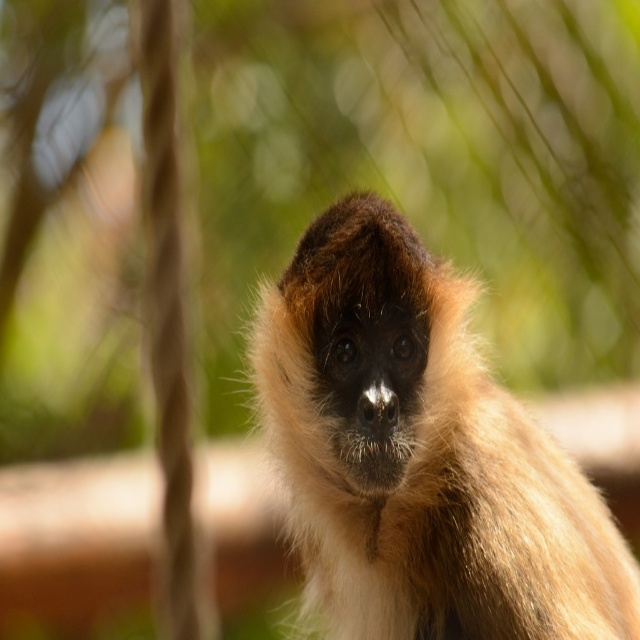Monkey: (219, 190, 640, 638)
